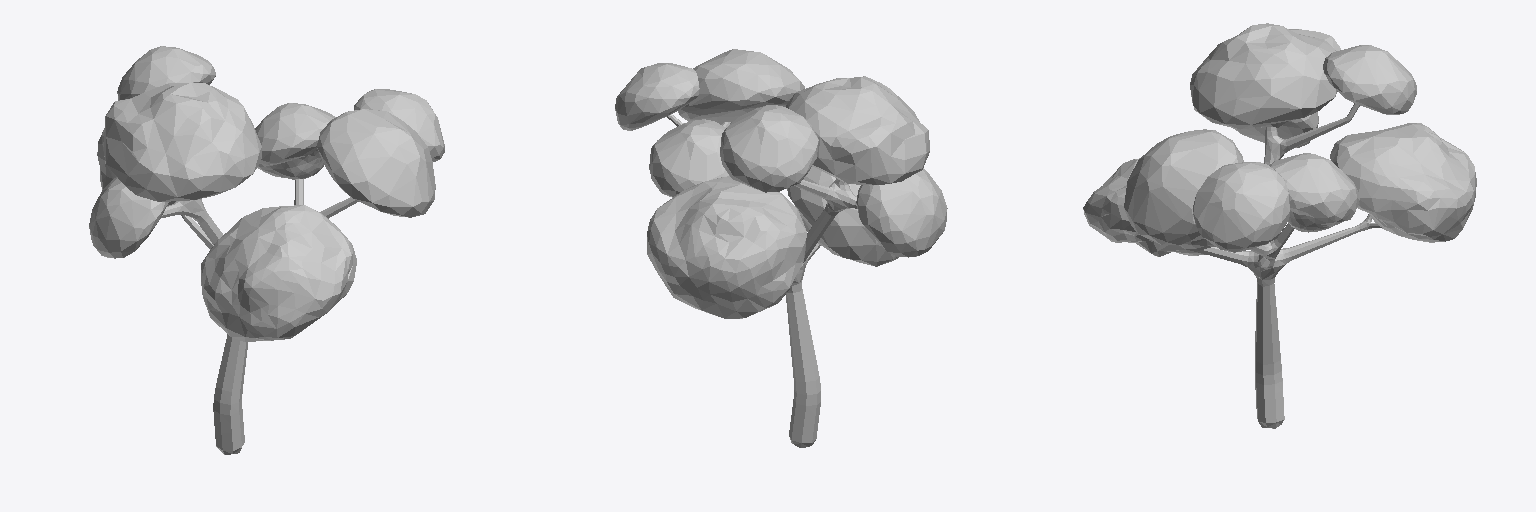
The model's file is low_poly_tree.obj.
3 renders of one model, left to right at view 1: azimuth 30°, elevation 25°; view 2: azimuth 150°, elevation 25°; view 3: azimuth 270°, elevation 25°, orthographic.
Parts seen in each view (by area): view 1: obj3, obj1, obj2, obj4; view 2: obj1, obj3, obj2, obj4; view 3: obj1, obj3, obj2, obj4.
Boxes of the visible parts, box(x1,y1,x2,y2) form: obj3: box(89, 46, 435, 258); obj1: box(97, 89, 444, 341); obj2: box(103, 82, 261, 201); obj4: box(160, 179, 358, 454); obj1: box(615, 63, 898, 318); obj3: box(649, 49, 947, 257); obj2: box(786, 76, 929, 184); obj4: box(667, 114, 856, 447); obj1: box(1083, 123, 1476, 256); obj3: box(1124, 45, 1416, 244); obj2: box(1190, 23, 1340, 129); obj4: box(1197, 103, 1381, 428).
Size of the model in its own units: 6.81 by 7.39 by 7.07.